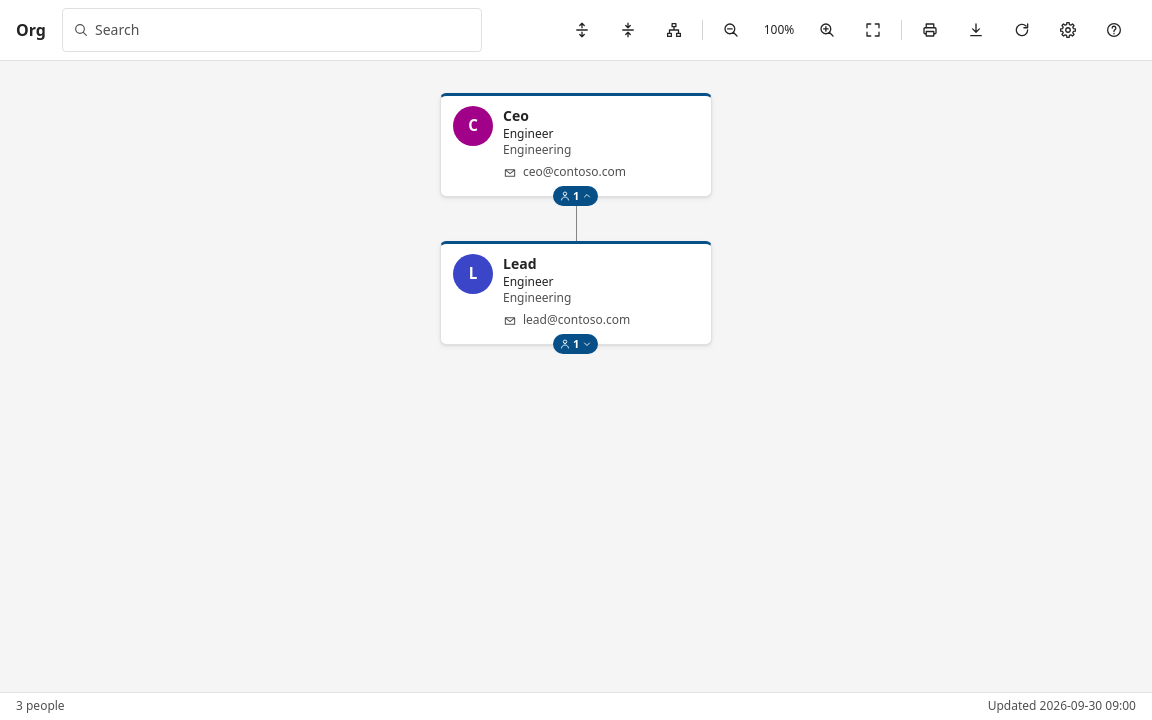
Scenario: OrgChartPage › folds back to the top persons at 100% with Collapse all, whatever the zoom was
Check: the footer is shown, box [0,692,1151,719]
Check: the footer does not show ""
Click the button named "Zoom out" at (731, 30), box [709,8,753,52]
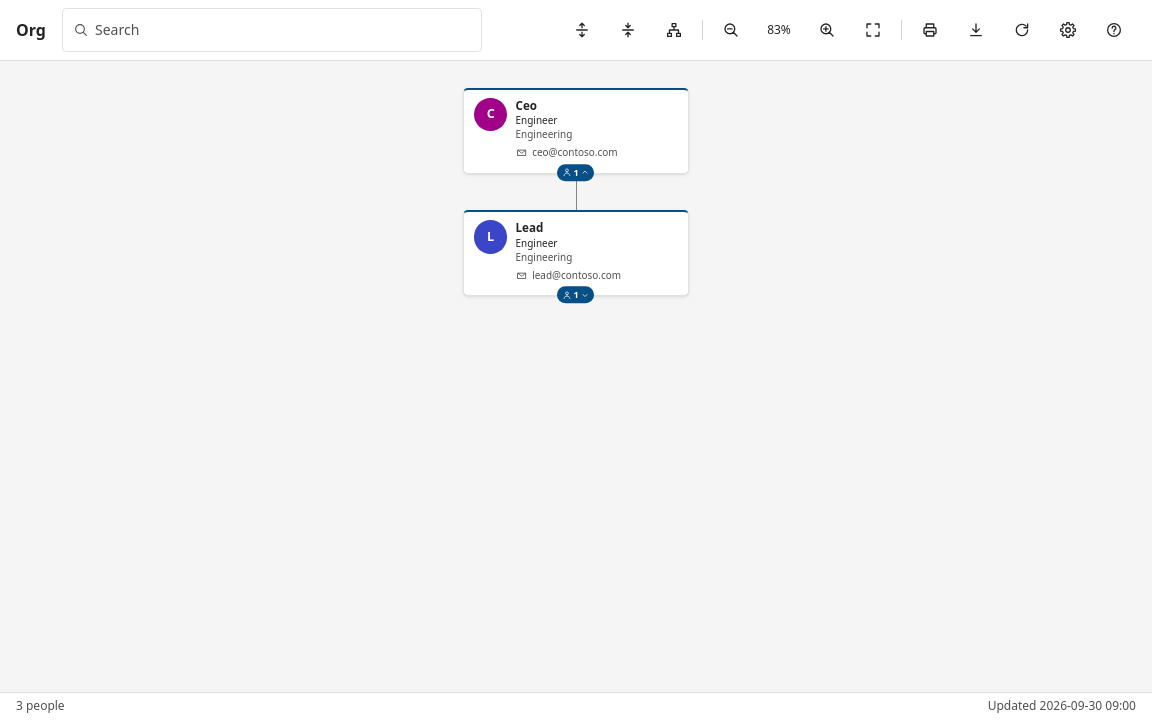
Check: the button "83%" has attribute aria-label="Zoom 83 percent. Reset zoom", box [755,8,803,52]
Click the button named "Collapse all" at (628, 30), box [606,8,650,52]
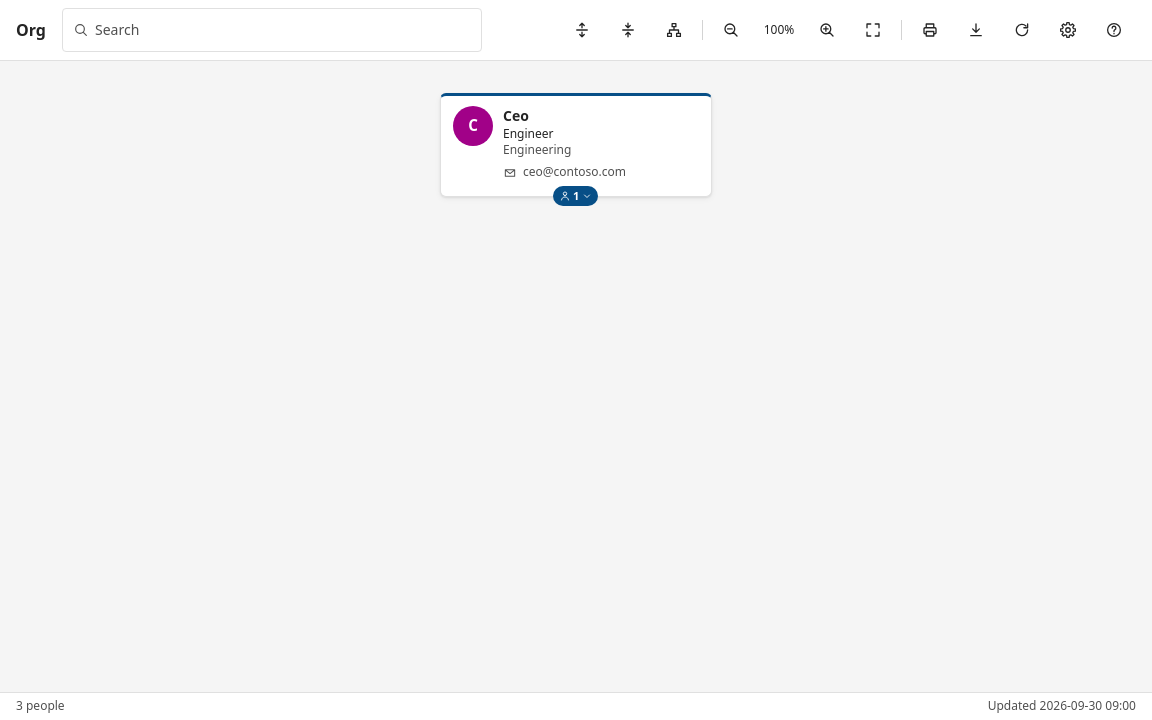
Check: the text "Lead" is gone
Check: the list item "Ceo" is collapsed, box [440,93,712,197]
